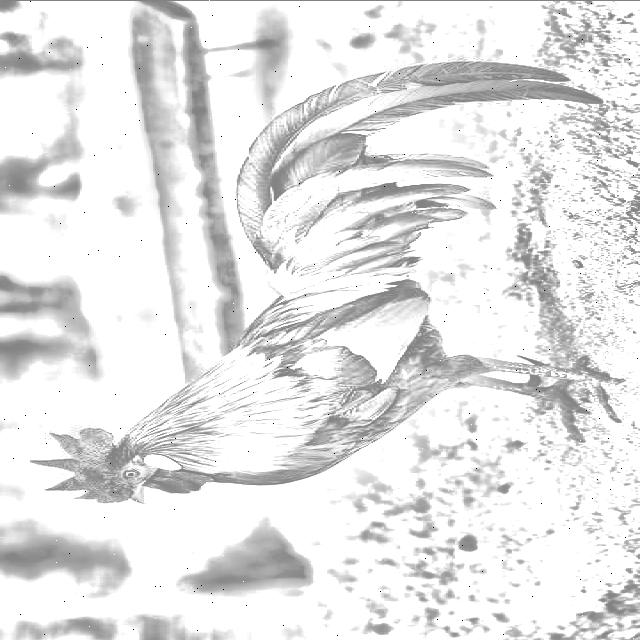Healthy: (31, 43, 620, 521)
